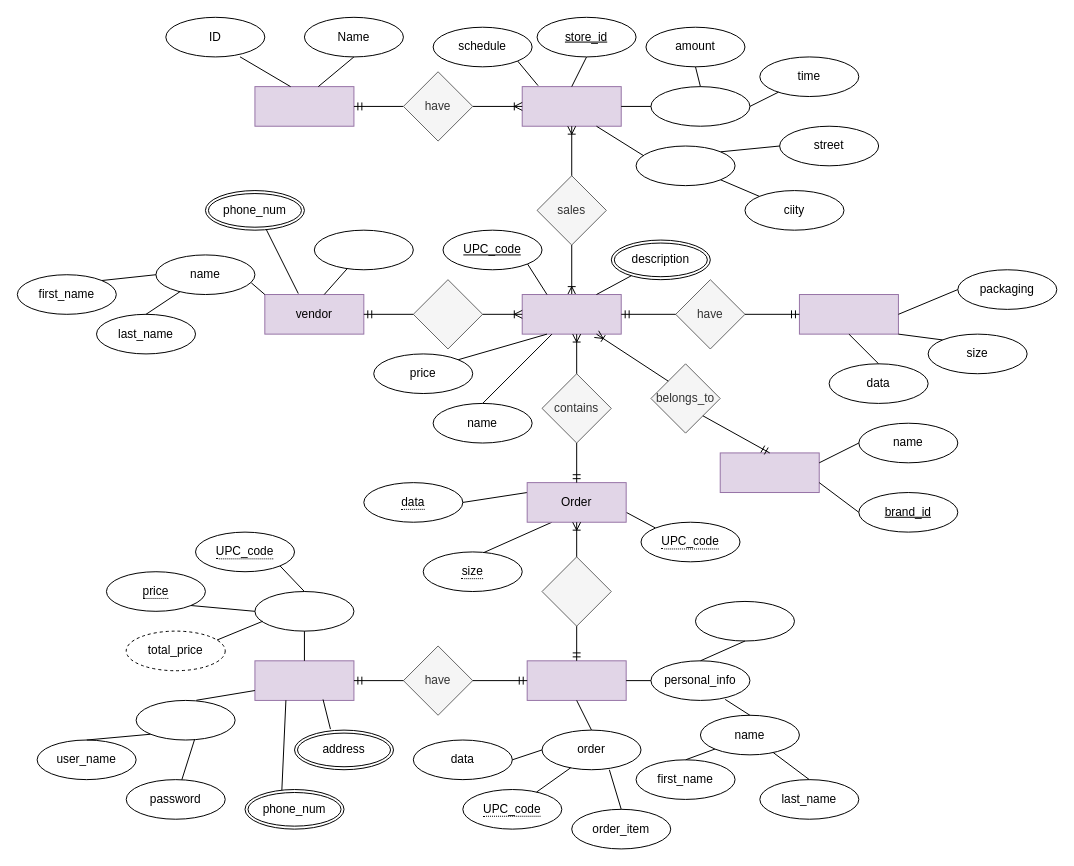
The diagram is 1074 pixels wide and 866 high, and some of its shapes have lost their labels. Here are the shapes that lost their labels. From the top down, the box of each, then its label:
(254, 86, 354, 126): Enterprise
(521, 86, 621, 126): Store
(650, 86, 750, 126): inventory
(635, 145, 735, 186): location
(313, 229, 413, 270): v_id
(412, 279, 483, 349): supplied_by
(521, 294, 621, 334): products
(798, 294, 898, 334): product_type
(719, 452, 819, 493): brand
(254, 591, 354, 631): cart
(541, 556, 611, 626): make
(694, 600, 794, 641): c_id
(254, 660, 354, 700): account
(526, 660, 626, 700): customer
(135, 699, 235, 740): login
